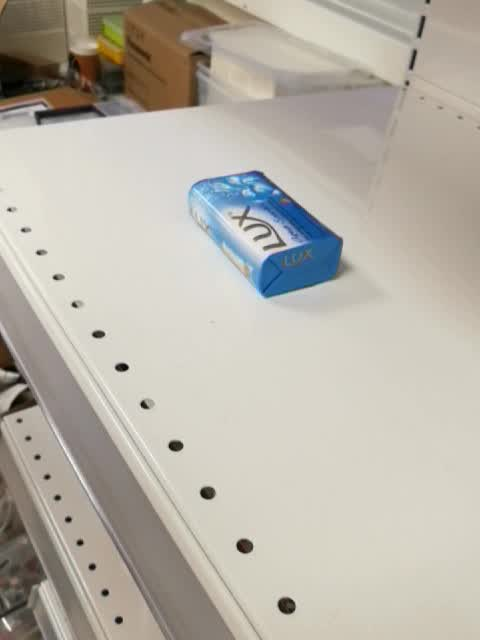soap: (186, 169, 344, 300)
